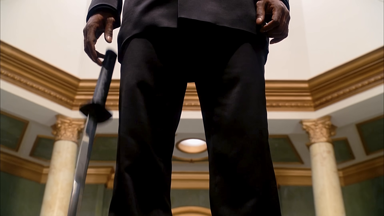bladed_weapon: (65, 48, 118, 214)
